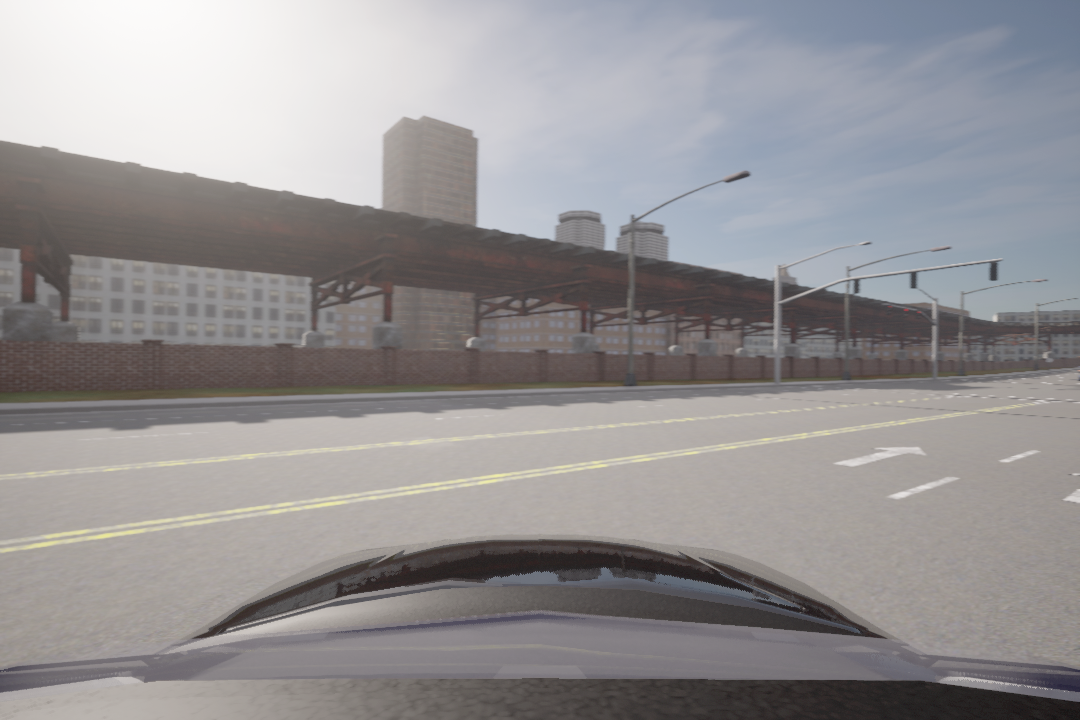RoadSign_forward: (835, 441, 935, 473)
